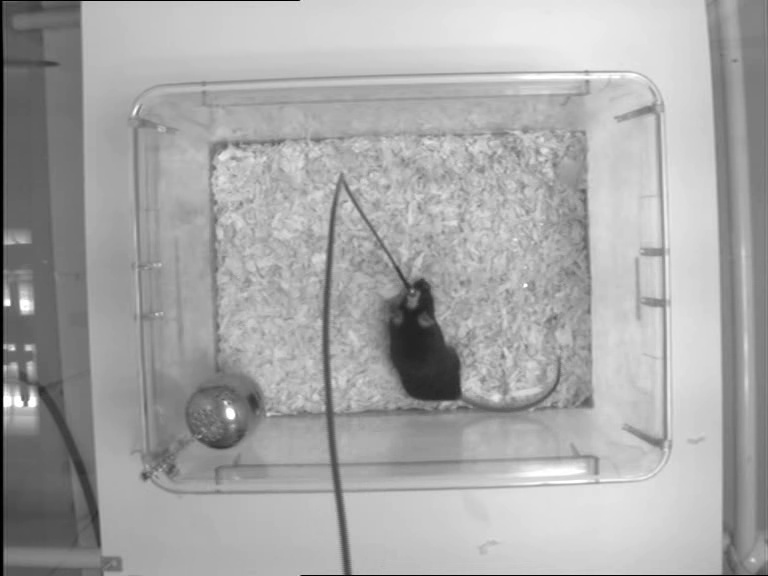mice: (387, 277, 565, 406)
